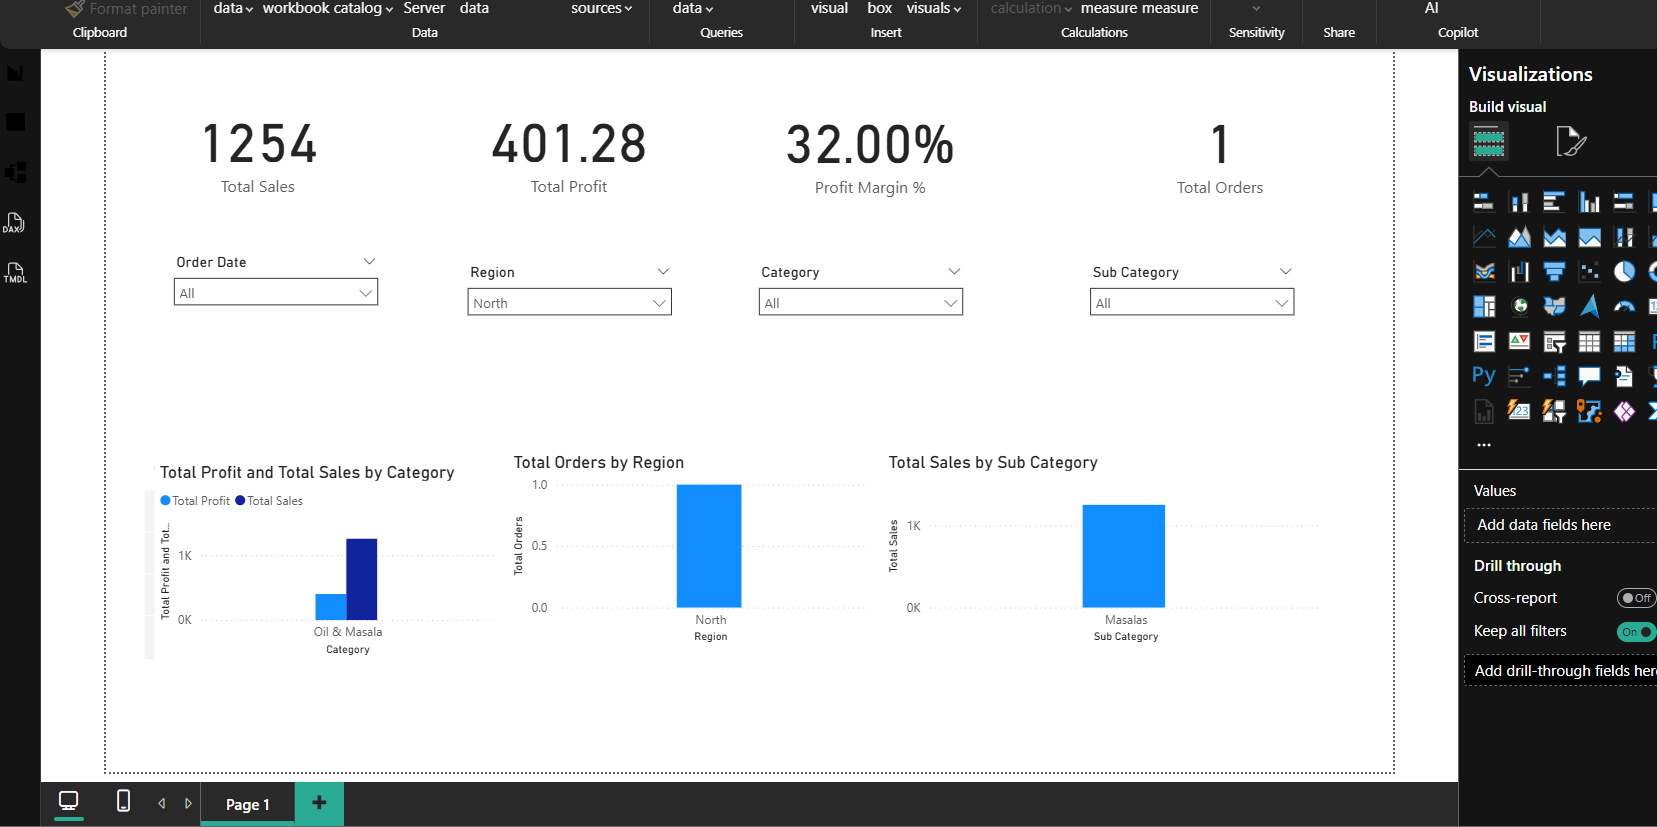

The page's visual inventory and layout, read from the dashboard file:
{"tool":"powerbi","page":{"name":"Page 1","canvas":[1280,720],"ordinal":0},"visuals":[{"type":"card","fields":{"Values":["Supermart Grocery Sales - Retail Analytics Dataset.Total Sales"]},"box":[11,31.6,279.9,133.1],"z":0},{"type":"card","fields":{"Values":["Supermart Grocery Sales - Retail Analytics Dataset.Total Profit"]},"box":[321.1,31.6,279.9,133.1],"z":1000},{"type":"card","fields":{"Values":["Supermart Grocery Sales - Retail Analytics Dataset.Profit Margin %"]},"box":[620.2,32.9,279.9,133.1],"z":2000},{"type":"card","fields":{"Values":["Supermart Grocery Sales - Retail Analytics Dataset.Total Orders"]},"box":[968.8,32.9,279.9,133.1],"z":3000},{"type":"slicer","fields":{"Values":["Supermart Grocery Sales - Retail Analytics Dataset.Order Date"]},"box":[57.2,199,223.9,69.7],"z":4000},{"type":"slicer","fields":{"Values":["Supermart Grocery Sales - Retail Analytics Dataset.Region"]},"box":[349.6,209,223.9,72.1],"z":5000},{"type":"slicer","fields":{"Values":["Supermart Grocery Sales - Retail Analytics Dataset.Category"]},"box":[639.4,209,223.9,72.1],"z":6000},{"type":"slicer","fields":{"Values":["Supermart Grocery Sales - Retail Analytics Dataset.Sub Category"]},"box":[969,209,223.9,72.1],"z":7000},{"type":"clusteredColumnChart","box":[38.6,400.6,223.9,207.7],"z":8000},{"type":"clusteredColumnChart","fields":{"Category":["Supermart Grocery Sales - Retail Analytics Dataset.Category"],"Y":["Supermart Grocery Sales - Retail Analytics Dataset.Total Profit","Supermart Grocery Sales - Retail Analytics Dataset.Total Sales"]},"box":[48.5,410.5,343.3,197.8],"z":9000},{"type":"clusteredColumnChart","fields":{"Category":["Supermart Grocery Sales - Retail Analytics Dataset.Region"],"Y":["Supermart Grocery Sales - Retail Analytics Dataset.Total Orders"]},"box":[400.6,400.6,359.5,195.3],"z":9001},{"type":"clusteredColumnChart","fields":{"Category":["Supermart Grocery Sales - Retail Analytics Dataset.Sub Category"],"Y":["Supermart Grocery Sales - Retail Analytics Dataset.Total Sales"]},"box":[773.7,400.6,441.6,195.3],"z":9002}]}

Visuals, with their boxes on the page's 1280x720 design canvas (x1, y1, x2, y2). These are canvas units, not pixel positions in the 1657x827 screenshot, which may show the page scaled, cropped or inside an application window:
card - Supermart Grocery Sales - Retail Analytics Dataset.Total Sales: box=[11, 32, 291, 165]
card - Supermart Grocery Sales - Retail Analytics Dataset.Total Profit: box=[321, 32, 601, 165]
card - Supermart Grocery Sales - Retail Analytics Dataset.Profit Margin %: box=[620, 33, 900, 166]
card - Supermart Grocery Sales - Retail Analytics Dataset.Total Orders: box=[969, 33, 1249, 166]
slicer - Supermart Grocery Sales - Retail Analytics Dataset.Order Date: box=[57, 199, 281, 269]
slicer - Supermart Grocery Sales - Retail Analytics Dataset.Region: box=[350, 209, 574, 281]
slicer - Supermart Grocery Sales - Retail Analytics Dataset.Category: box=[639, 209, 863, 281]
slicer - Supermart Grocery Sales - Retail Analytics Dataset.Sub Category: box=[969, 209, 1193, 281]
clusteredColumnChart: box=[39, 401, 262, 608]
clusteredColumnChart - Supermart Grocery Sales - Retail Analytics Dataset.Category x Supermart Grocery Sales - Retail Analytics Dataset.Total Profit: box=[48, 410, 392, 608]
clusteredColumnChart - Supermart Grocery Sales - Retail Analytics Dataset.Region x Supermart Grocery Sales - Retail Analytics Dataset.Total Orders: box=[401, 401, 760, 596]
clusteredColumnChart - Supermart Grocery Sales - Retail Analytics Dataset.Sub Category x Supermart Grocery Sales - Retail Analytics Dataset.Total Sales: box=[774, 401, 1215, 596]
